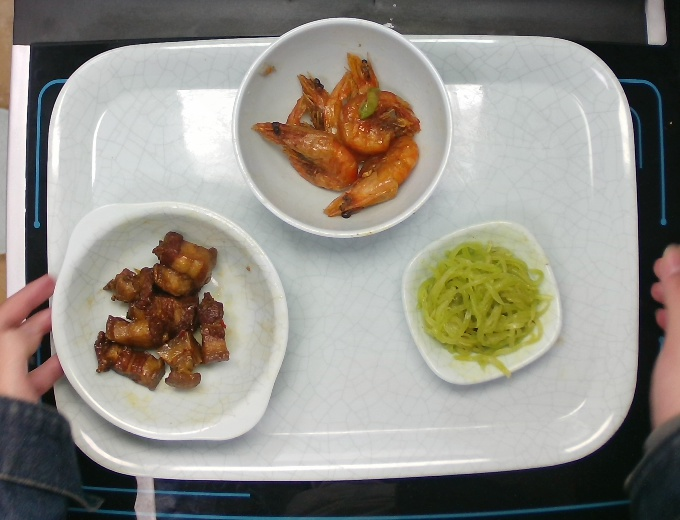JYsf-Fan_Wan: (228, 13, 456, 246)
JYsf-Shuang_Er_Wan: (47, 195, 292, 449)
JYsf-Si_Fang_Die: (400, 217, 570, 388)
